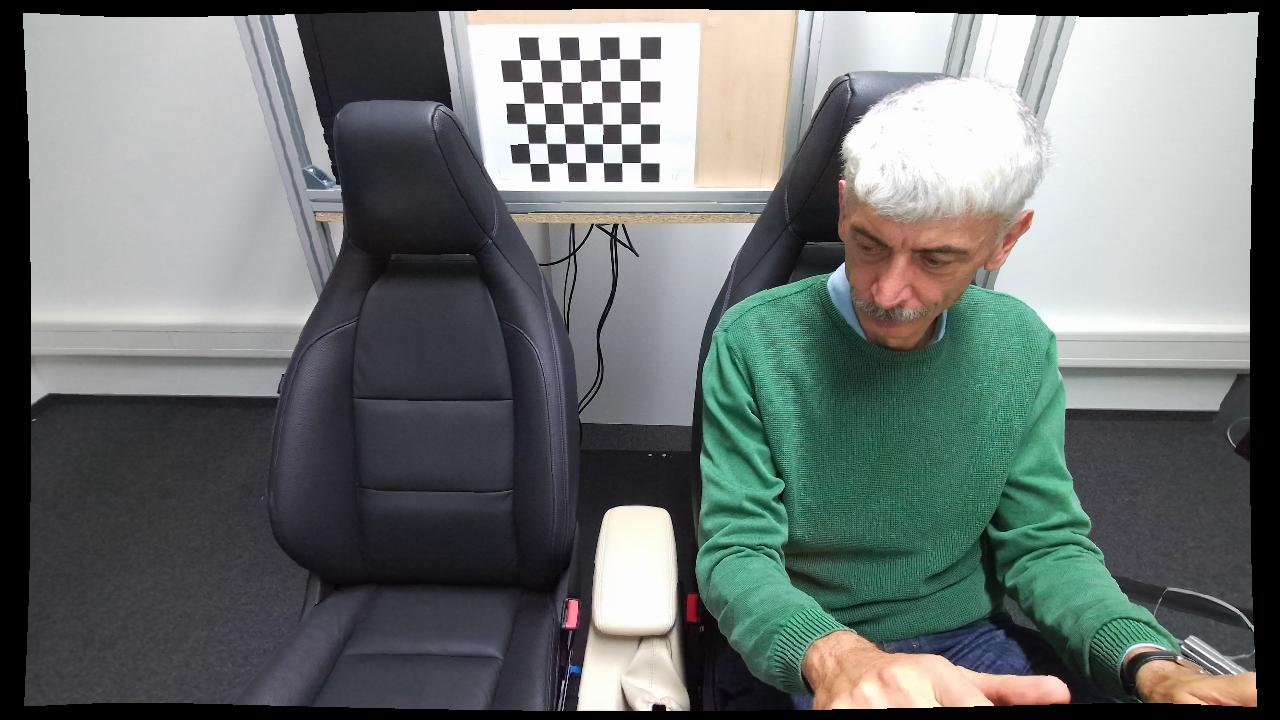Distracted: (691, 74, 1165, 719)
